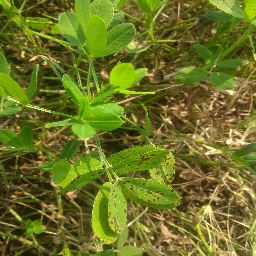GroundNut_Leaf: (50, 159, 97, 196), (105, 145, 168, 171), (124, 177, 178, 203), (91, 100, 122, 132), (107, 23, 135, 54), (1, 124, 34, 150), (1, 75, 28, 106), (59, 12, 85, 44), (109, 183, 124, 235), (108, 63, 136, 90), (209, 1, 249, 19), (86, 14, 103, 56), (74, 97, 90, 137), (176, 66, 207, 82), (210, 73, 236, 88)
